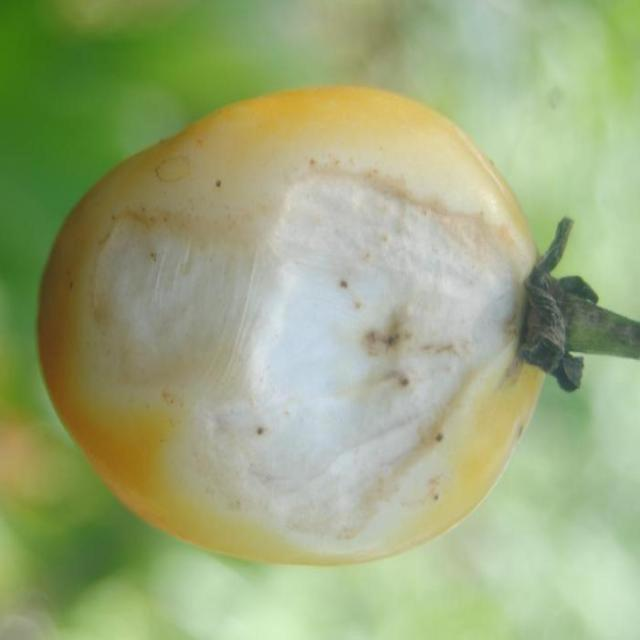Sunscald Fruit: (61, 109, 353, 371)
